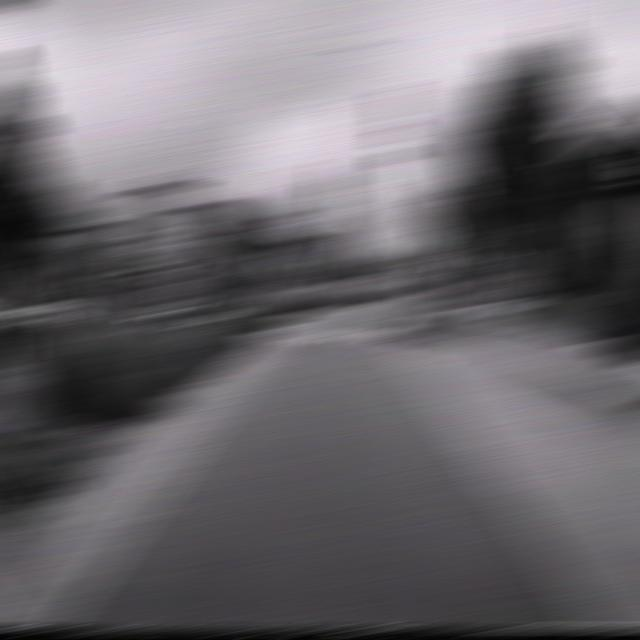pedestrianCrossing: (404, 215, 447, 256)
yield: (390, 232, 422, 250)
